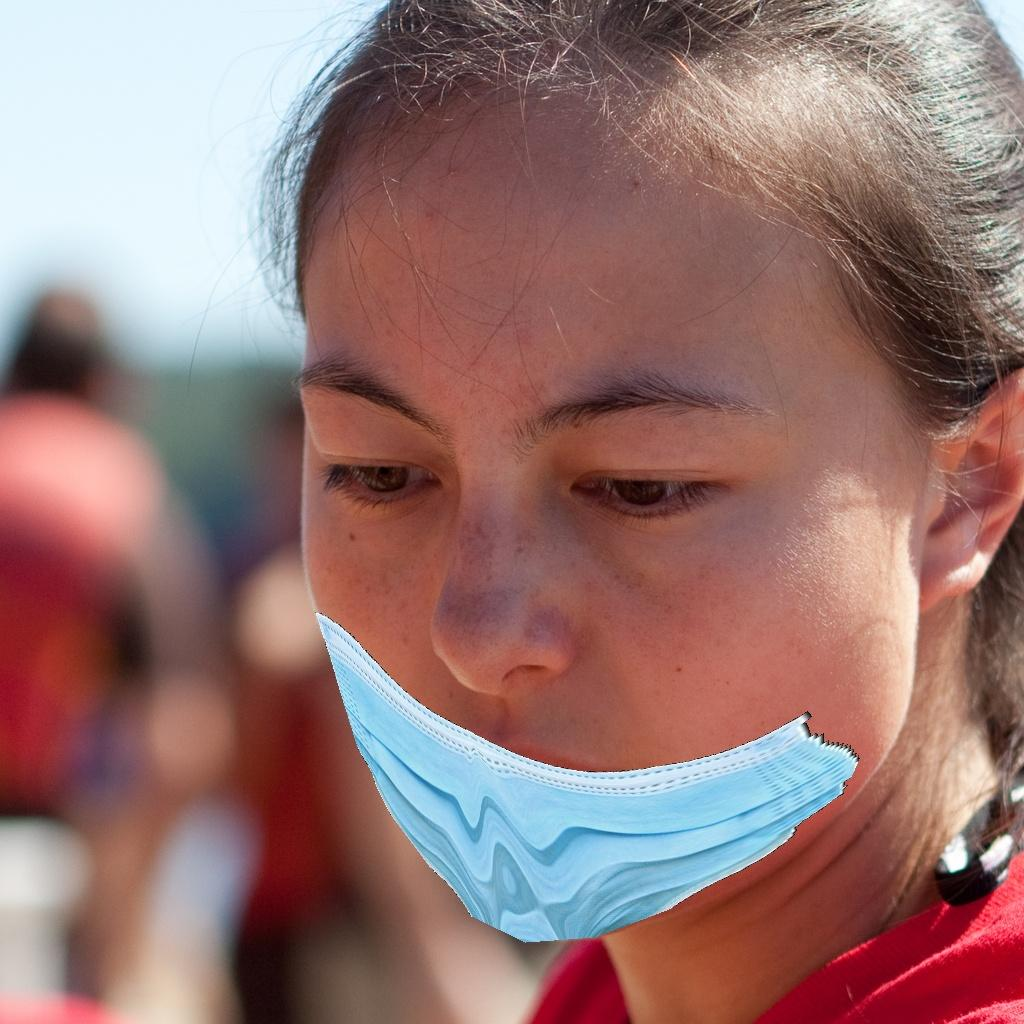Máscara Incorreta: (293, 292, 909, 916)
